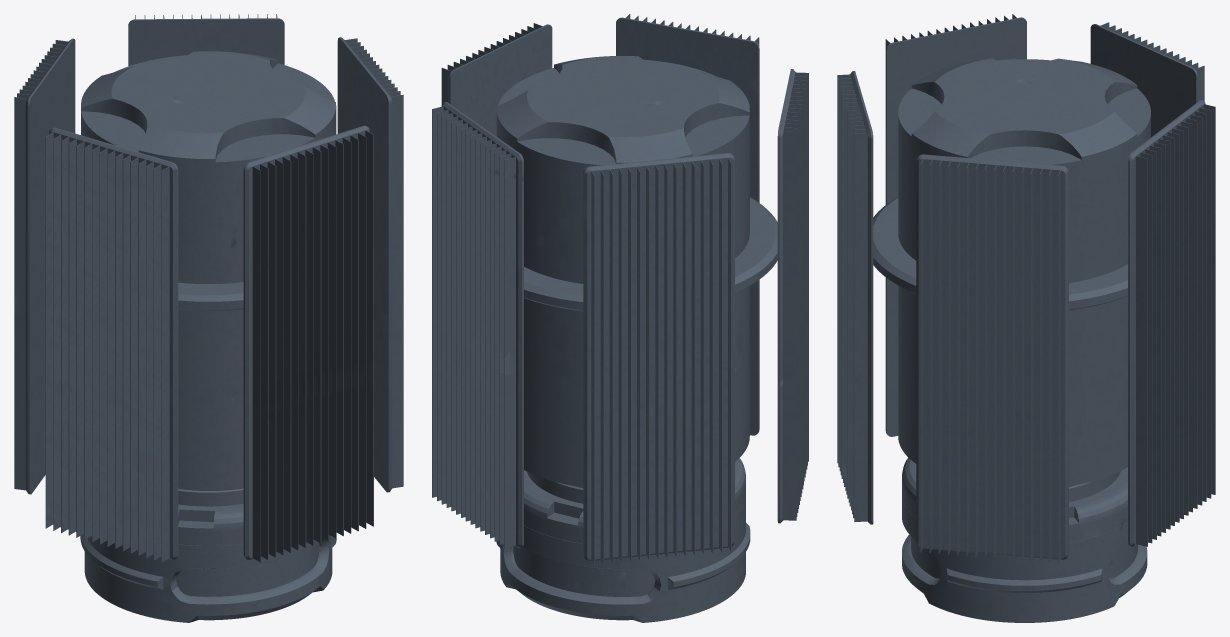
The model's file is rsg_home.glb.
3 renders of one model, left to right at view 1: azimuth 30°, elevation 25°; view 2: azimuth 150°, elevation 25°; view 3: azimuth 270°, elevation 25°, orthographic.
Parts seen in each view (by area): view 1: rsg_home; view 2: rsg_home; view 3: rsg_home.
Part boxes in pixels (box(x1,y1,x2,y2)): rsg_home: box(14, 14, 403, 622); rsg_home: box(432, 14, 808, 622); rsg_home: box(837, 14, 1215, 622).
Bounding box in the file's own units: 4.3 × 5.93 × 4.25.
Materials: 1 (1 with a texture image).
